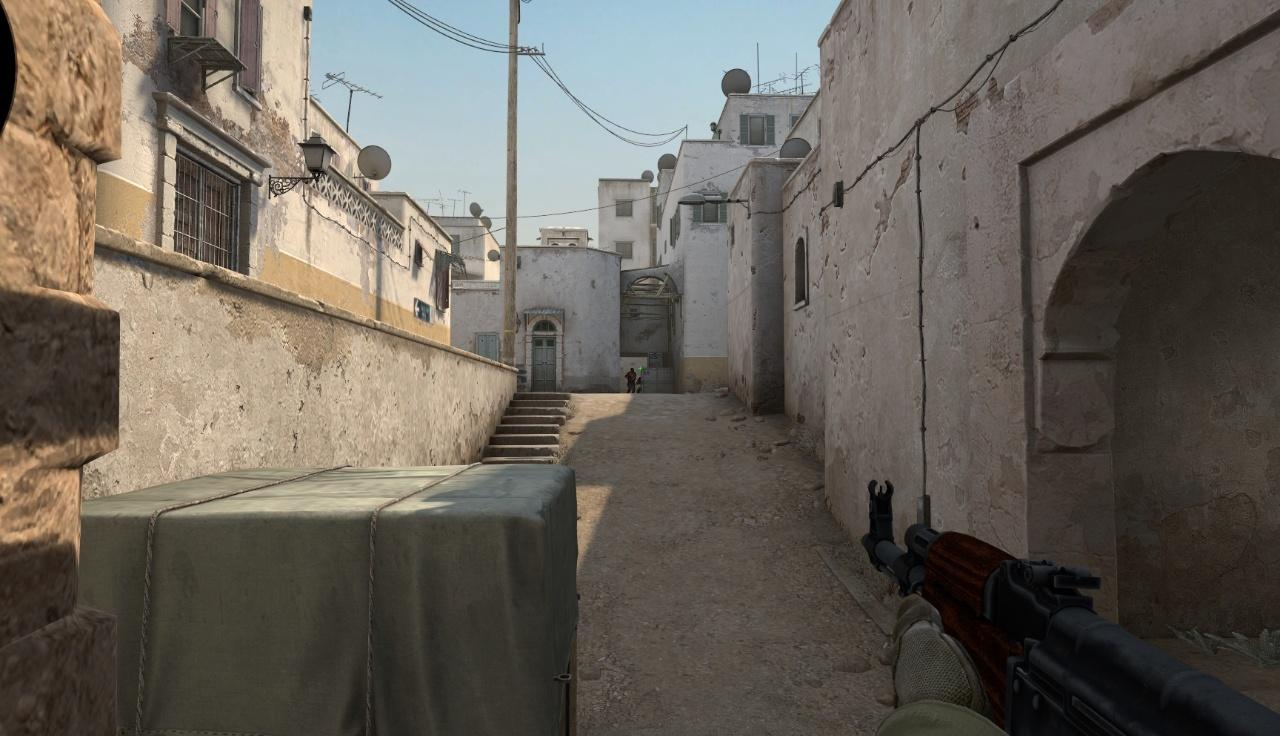rifle: (860, 476, 1280, 736)
tt: (626, 368, 636, 393)
tthead: (630, 368, 634, 374)
